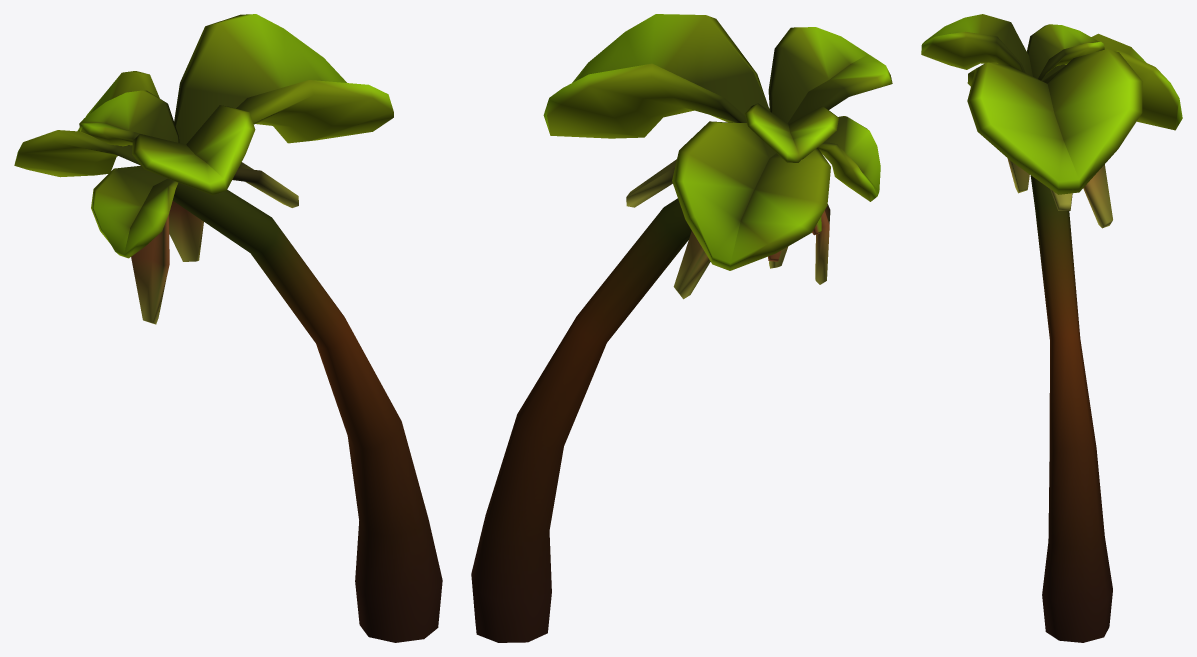
Rendered from Palm_04.fbx.
3 renders of one model, left to right at view 1: azimuth 30°, elevation 25°; view 2: azimuth 150°, elevation 25°; view 3: azimuth 270°, elevation 25°, orthographic. The views are drawn at different scales.
Parts seen in each view (by area): view 1: Palm_04; view 2: Palm_04; view 3: Palm_04.
Part boxes in pixels (box(x1,y1,x2,y2)): Palm_04: box(14, 14, 442, 642); Palm_04: box(471, 14, 892, 642); Palm_04: box(921, 14, 1182, 642).
Size of the model in its own units: 1717 by 2657 by 1221.
